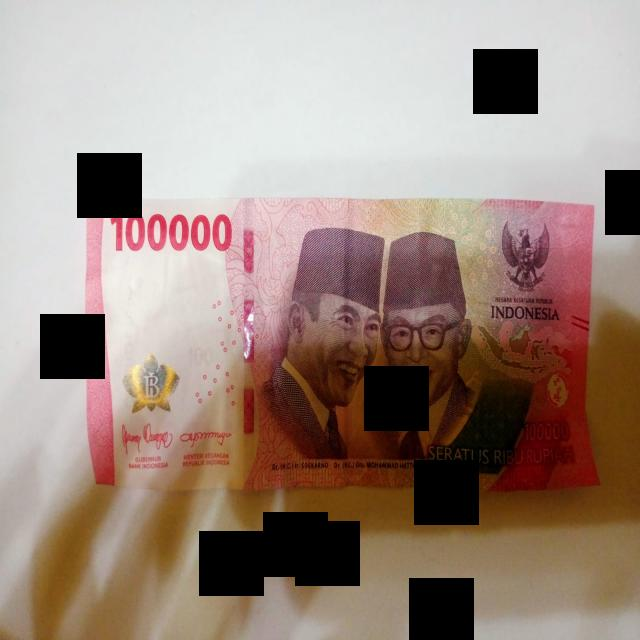seratusribu rupiah: (85, 198, 599, 492)
